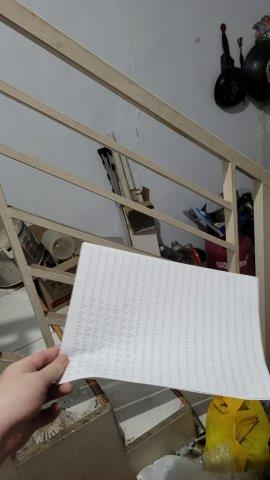kertas: (48, 242, 270, 405)
